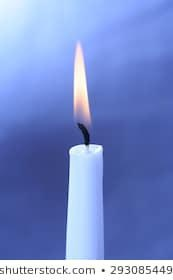fire: (70, 37, 92, 139)
